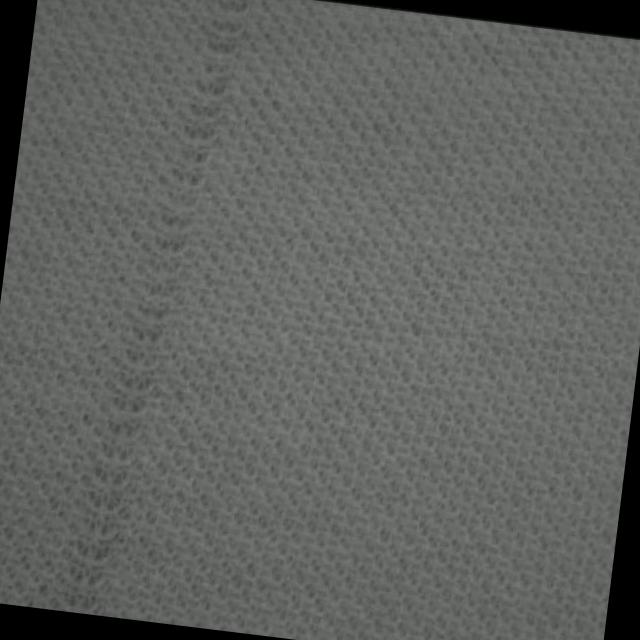Warp_Weft: (59, 0, 253, 625)
